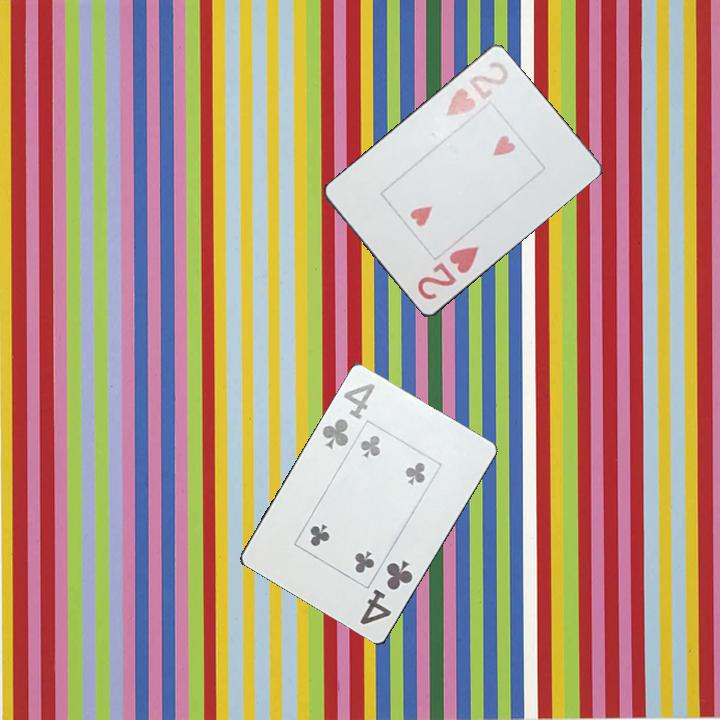2h: (441, 58, 512, 123), (414, 243, 482, 303)
4c: (318, 380, 378, 453), (356, 556, 416, 628)
